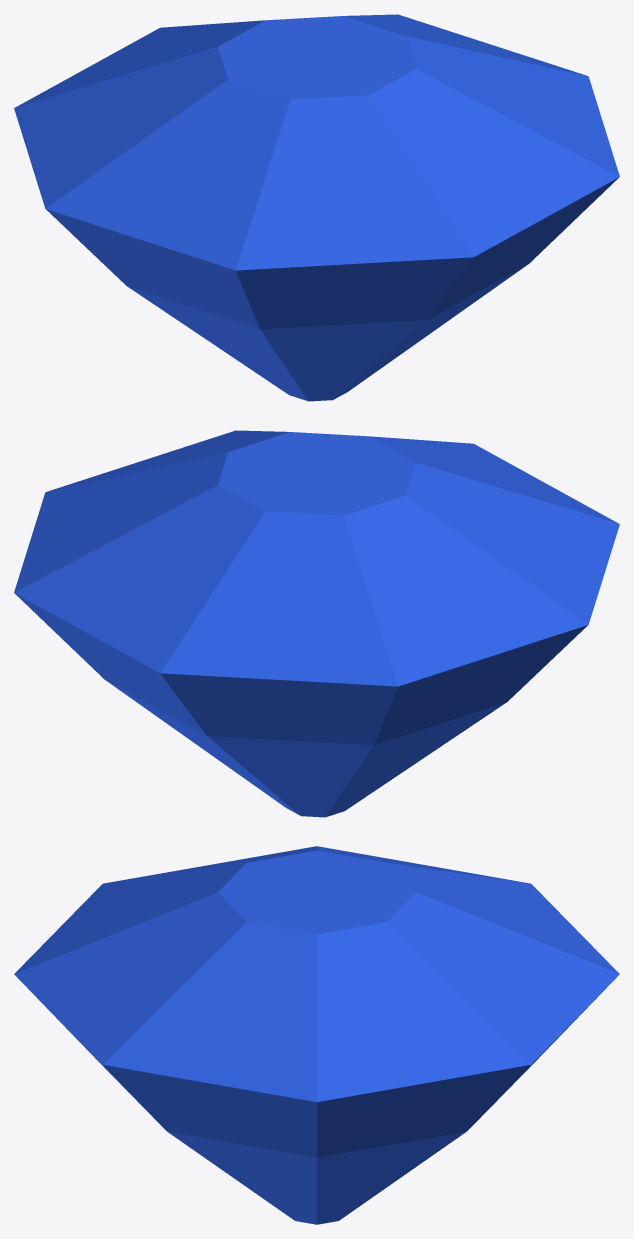
The model's file is BlueGem.fbx.
The picture shows the model from 3 angles, top to bottom: view 1: azimuth 30°, elevation 25°; view 2: azimuth 150°, elevation 25°; view 3: azimuth 270°, elevation 25°; orthographic projection. The views are drawn at different scales.
Visible parts, largest first — view 1: Gem; view 2: Gem; view 3: Gem.
Part boxes in pixels (bbox=[...]): Gem: bbox=[14, 14, 619, 401]; Gem: bbox=[14, 430, 619, 817]; Gem: bbox=[14, 846, 619, 1224].
Size of the model in its own units: 200 by 116 by 200.
